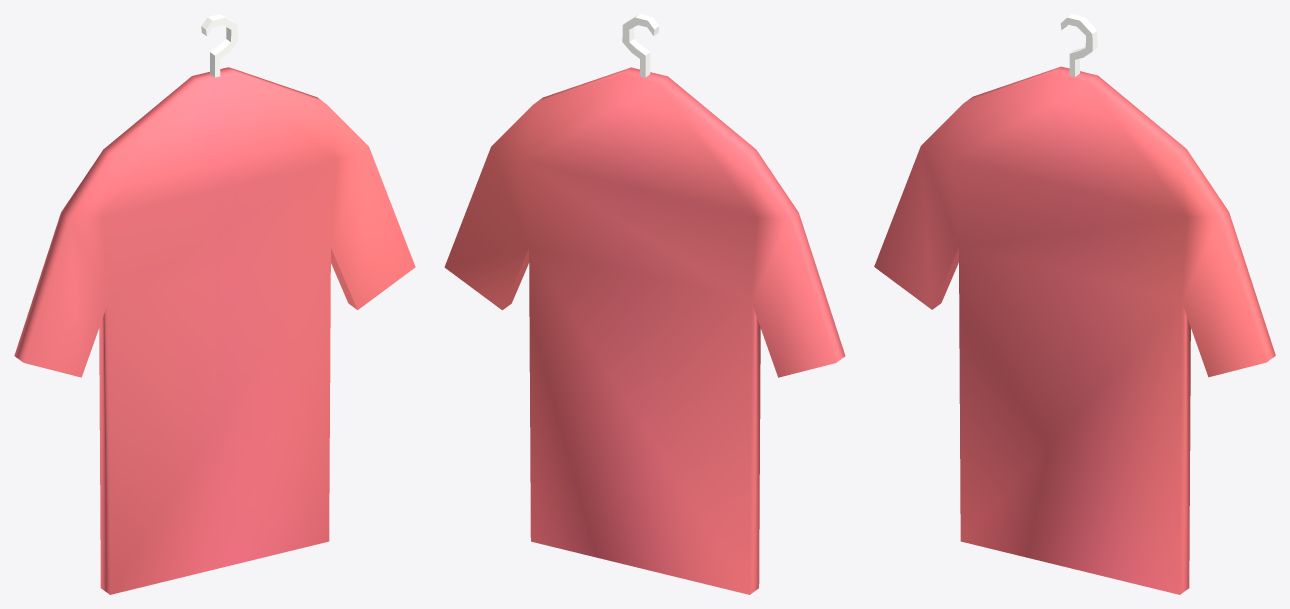
File: ClothingHangerWhiteShirtPink.glb
3 views of the same model, side by side, from view 1: azimuth 30°, elevation 25°; view 2: azimuth 150°, elevation 25°; view 3: azimuth 330°, elevation 25° (orthographic).
Visible parts, largest first — view 1: ClothingHangerWhiteShirtPink; view 2: ClothingHangerWhiteShirtPink; view 3: ClothingHangerWhiteShirtPink.
Part boxes in pixels (box(x1,y1,x2,y2)): ClothingHangerWhiteShirtPink: box(14, 14, 415, 594); ClothingHangerWhiteShirtPink: box(444, 14, 845, 594); ClothingHangerWhiteShirtPink: box(874, 14, 1275, 594).
Size of the model in its own units: 0.76 by 1.01 by 0.0315.
1 material, 1 textured.
